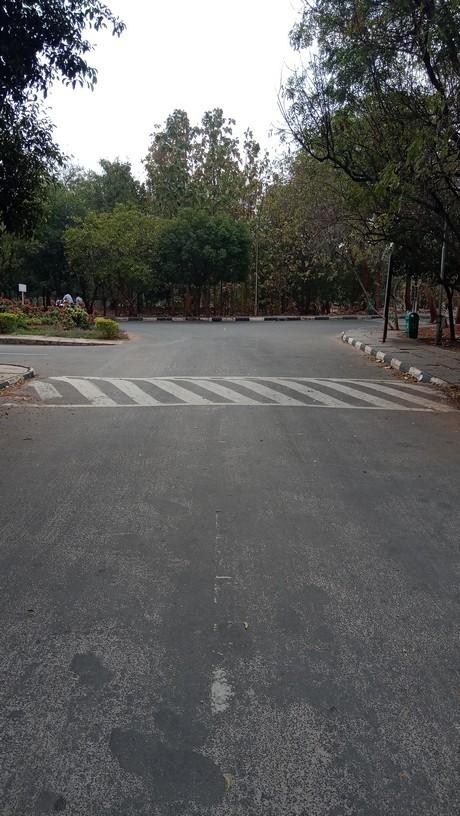bump: (1, 373, 460, 409)
